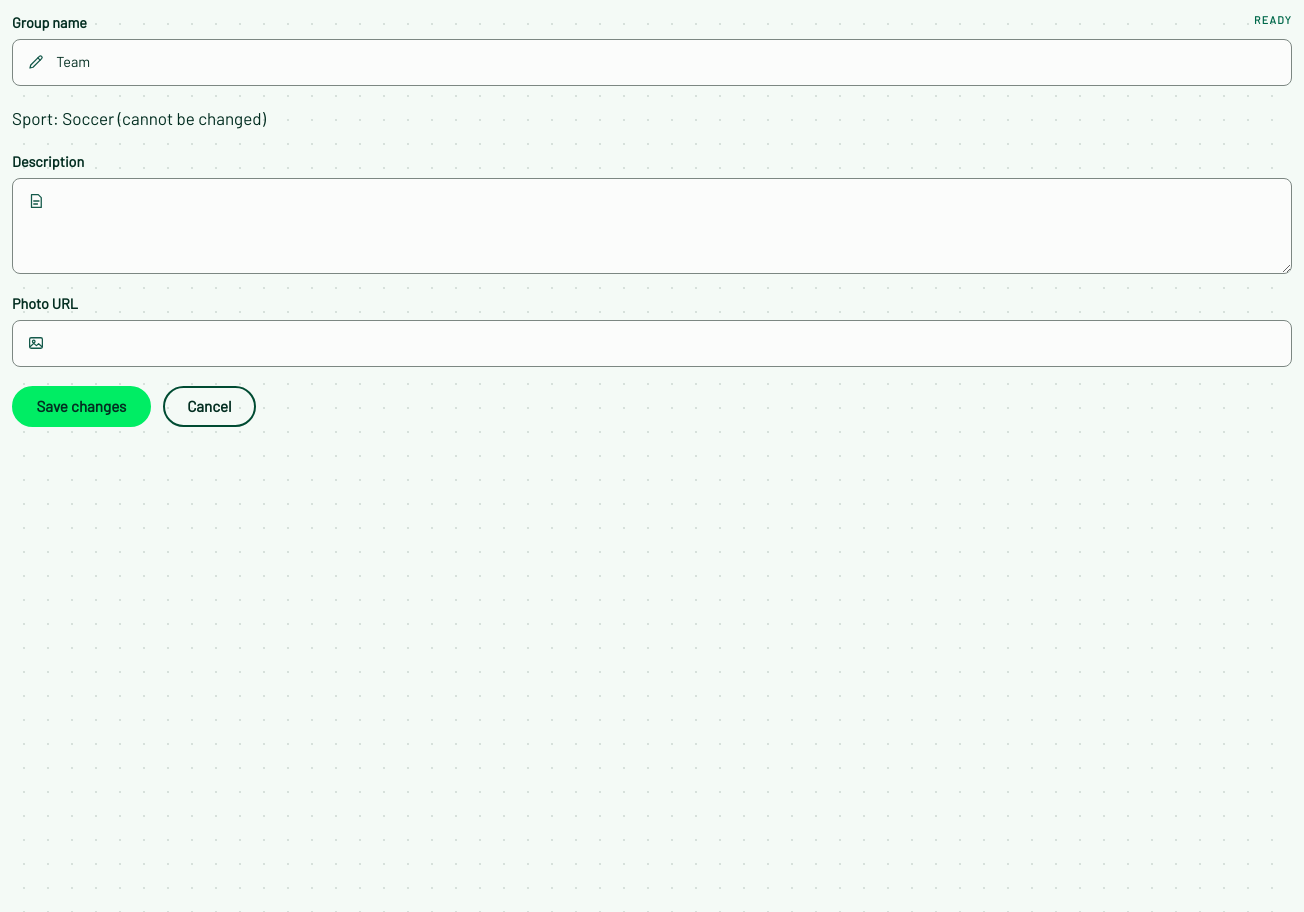
Test: retains edits after a server error and sends the required name without a sport update
In the text box labelled "Description": (652, 226) 12,178 -> 1292,274, type "Evening games"
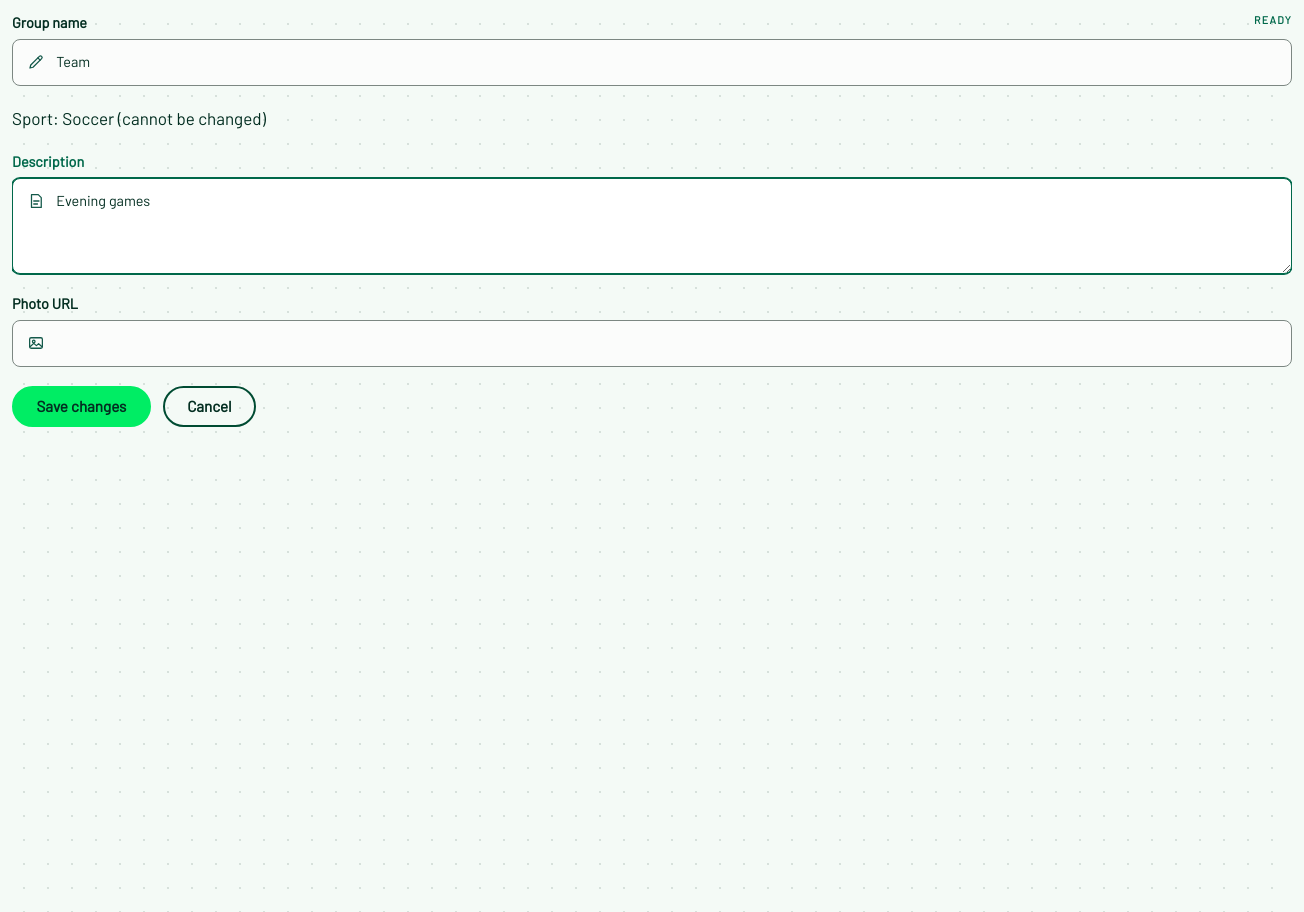
Click the button "Save changes": click(81, 406) 12,386 -> 151,427
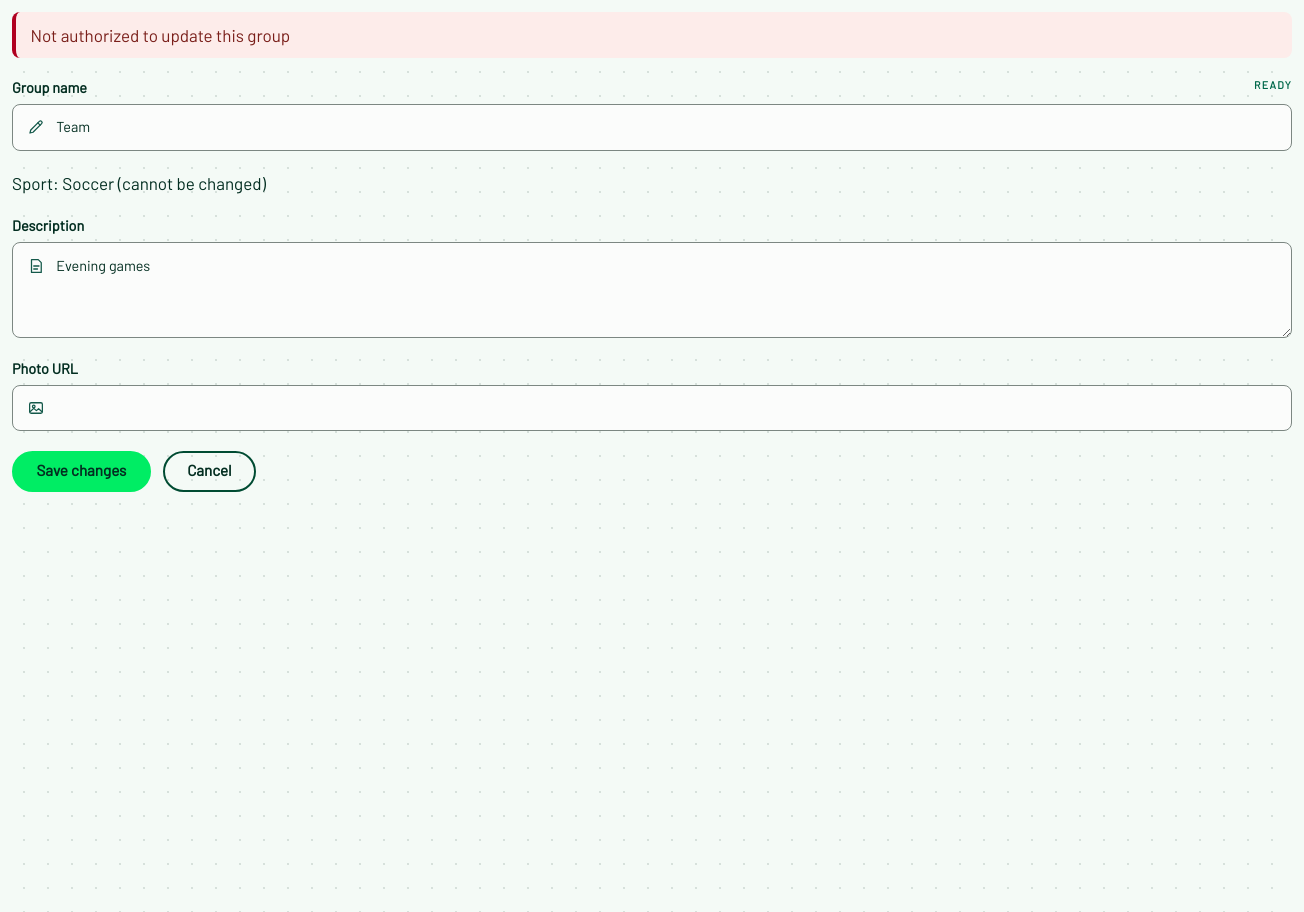
Check: the message shows "Not authorized", box 30,25 -> 290,45
